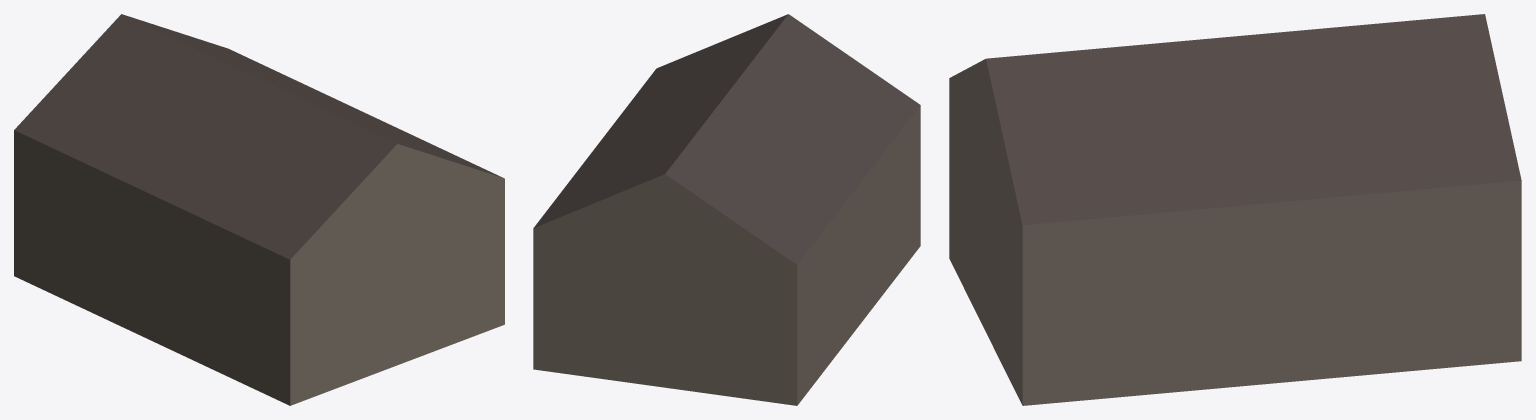
The picture shows the model from 3 angles, left to right: view 1: azimuth 30°, elevation 25°; view 2: azimuth 150°, elevation 25°; view 3: azimuth 270°, elevation 25°; orthographic projection. The views are drawn at different scales.
Parts seen in each view (by area): view 1: HP-w408450708; view 2: HP-w408450708; view 3: HP-w408450708.
Boxes of the visible parts, x1=… form: HP-w408450708: x1=14, y1=14, x2=504, y2=405; HP-w408450708: x1=533, y1=14, x2=920, y2=405; HP-w408450708: x1=949, y1=14, x2=1521, y2=405.
Bounding box in the file's own units: 13.68 × 9.1 × 17.24.
